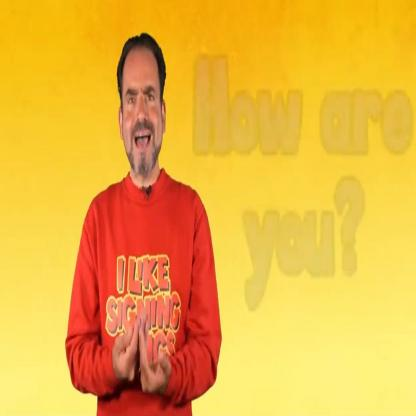HowAreYou: (108, 292, 167, 395)
